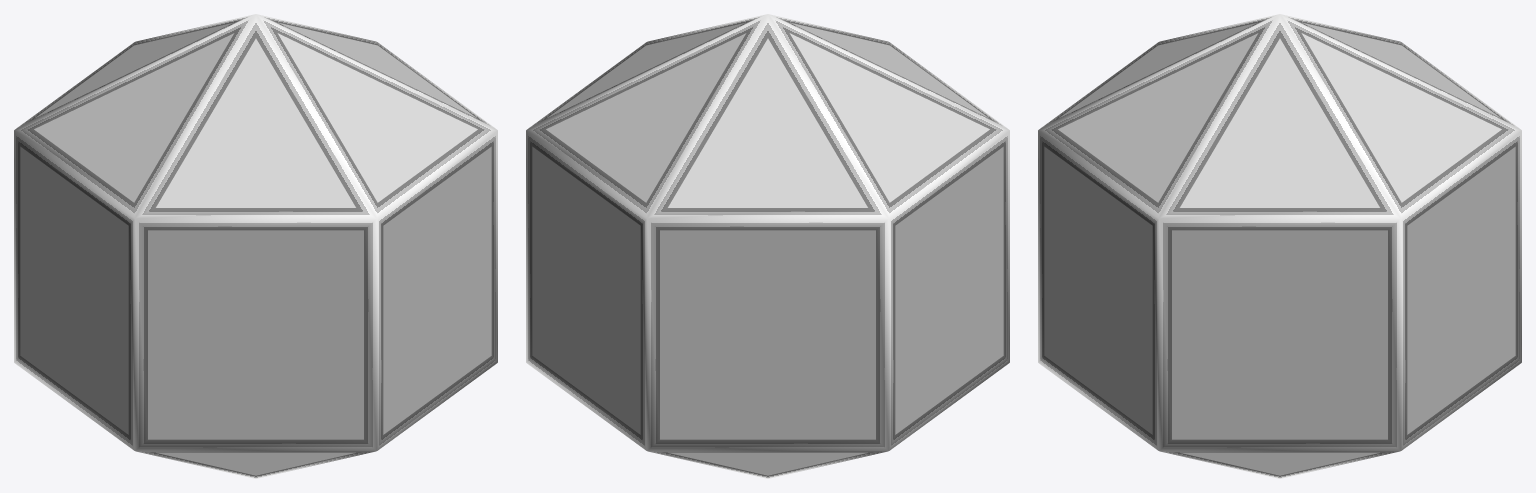
Rendered from Item Crystal.fbx.
3 views of the same model, side by side, from view 1: azimuth 30°, elevation 25°; view 2: azimuth 150°, elevation 25°; view 3: azimuth 270°, elevation 25° (orthographic).
Visible parts, largest first — view 1: Cylinder; view 2: Cylinder; view 3: Cylinder.
Boxes of the visible parts, x1=… form: Cylinder: x1=14, y1=14, x2=497, y2=478; Cylinder: x1=526, y1=14, x2=1009, y2=478; Cylinder: x1=1038, y1=14, x2=1521, y2=478.
Size of the model in its own units: 163 by 200 by 189.
